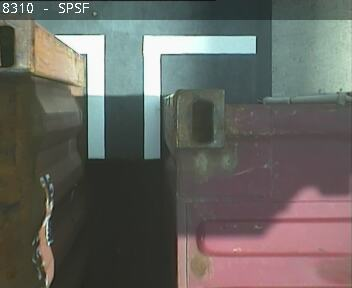groundmarker_1: (55, 34, 257, 158)
